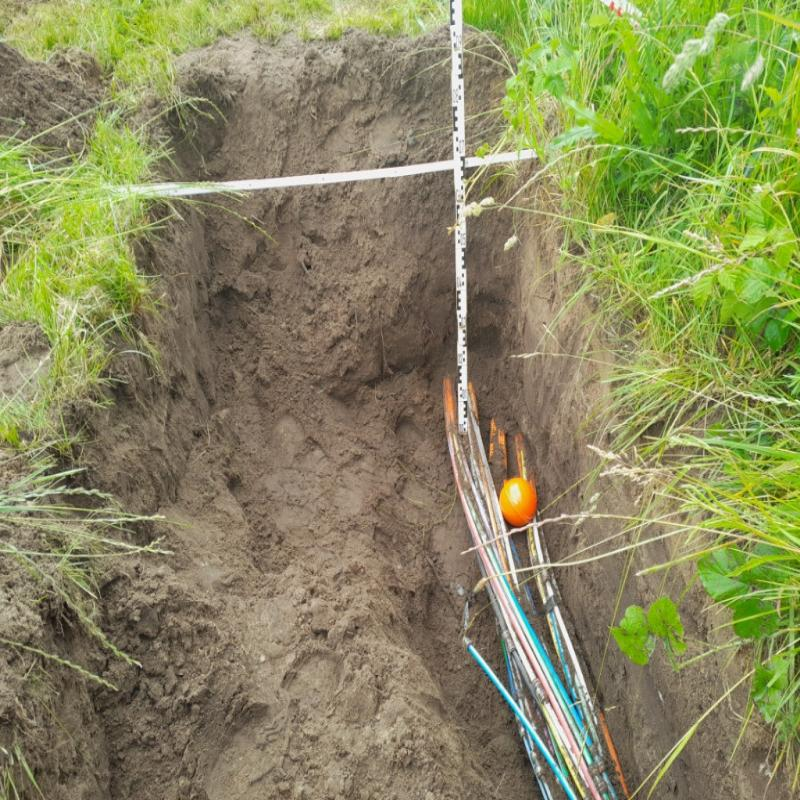Kugelmarker: (500, 478, 535, 525)
Orang-Speednetrohrchen: (443, 375, 466, 457), (491, 419, 506, 469)
